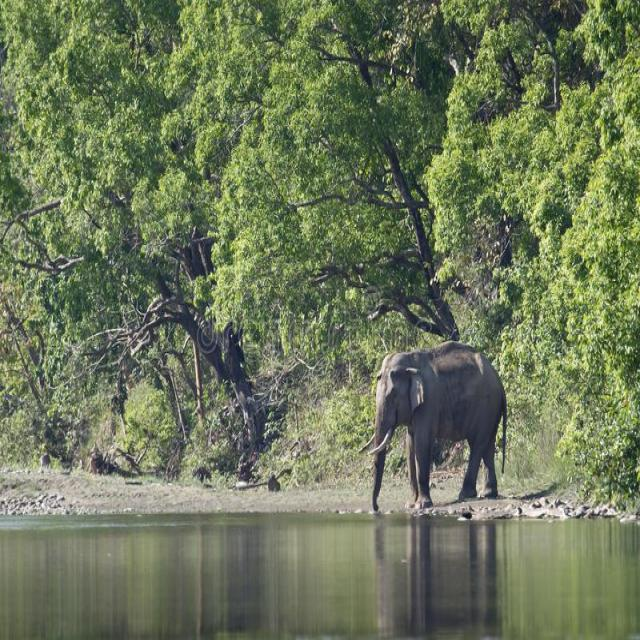Elephant: (361, 340, 516, 515)
